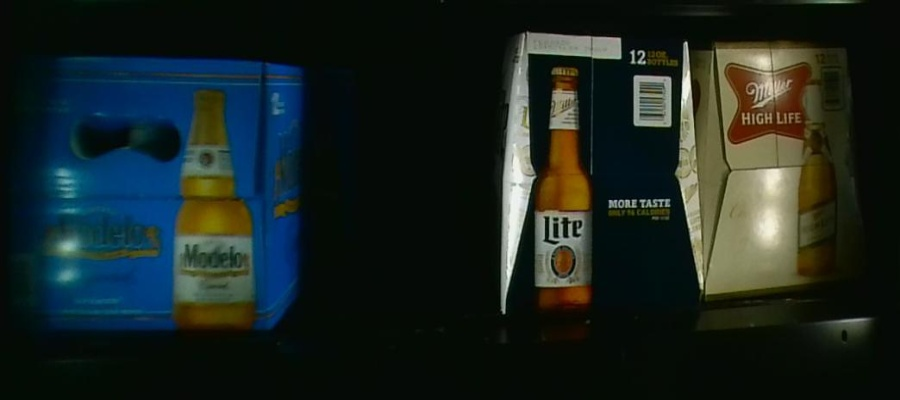bottle: (3, 60, 302, 328), (495, 32, 697, 309), (697, 39, 863, 301)
